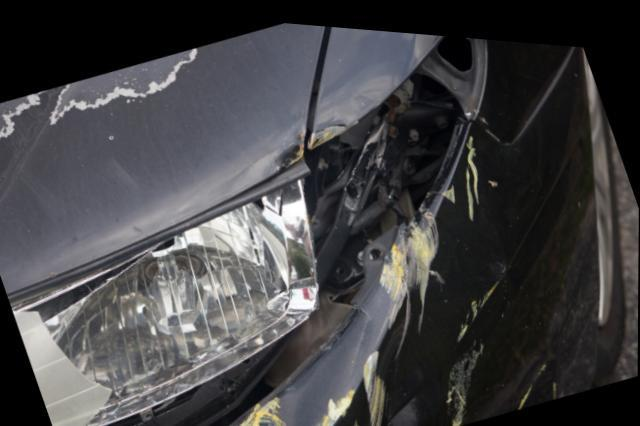lamp broken: (10, 171, 319, 426)
rub: (225, 129, 564, 426)
